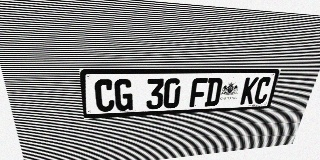0: (163, 78, 181, 109)
3: (146, 78, 164, 110)
C: (94, 79, 115, 112), (253, 77, 272, 104)
D: (204, 78, 223, 106)
F: (189, 78, 208, 107)
G: (114, 79, 133, 111)
K: (240, 77, 259, 105)
